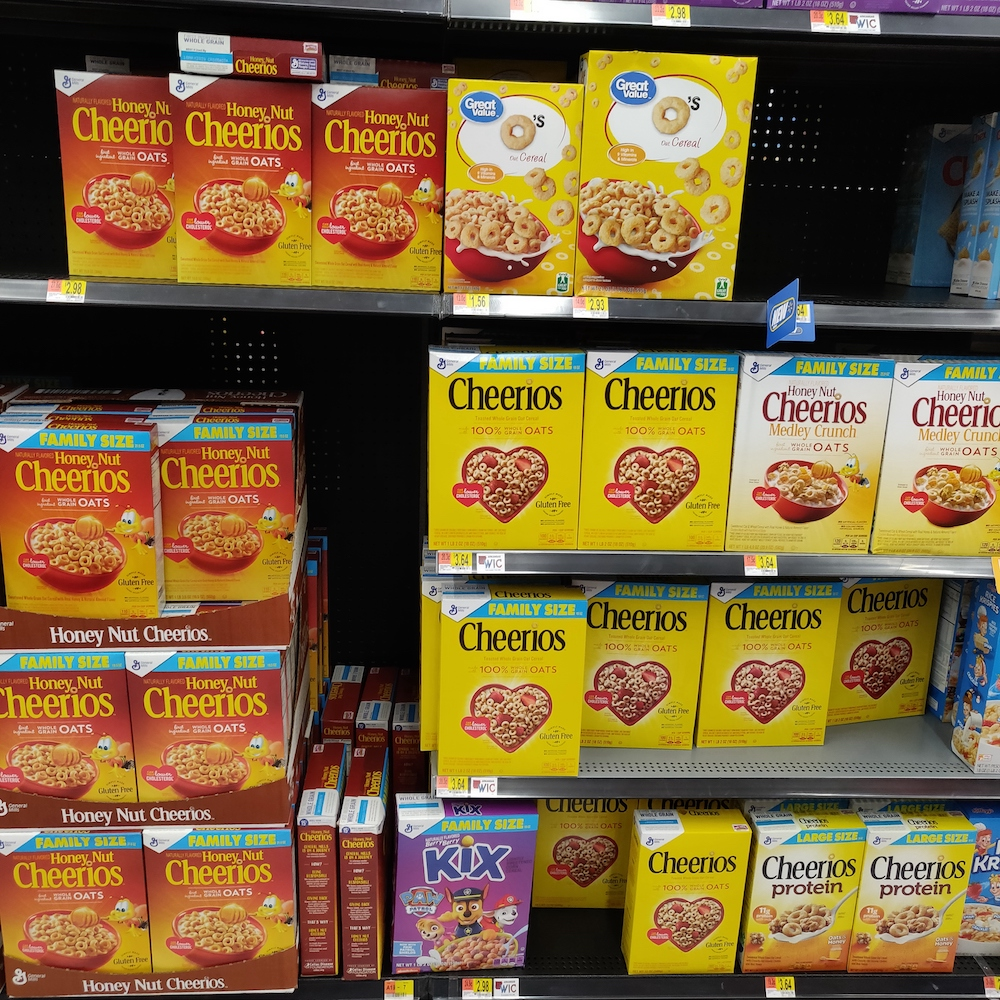Kix Berry -568919964: (390, 814, 535, 980)
